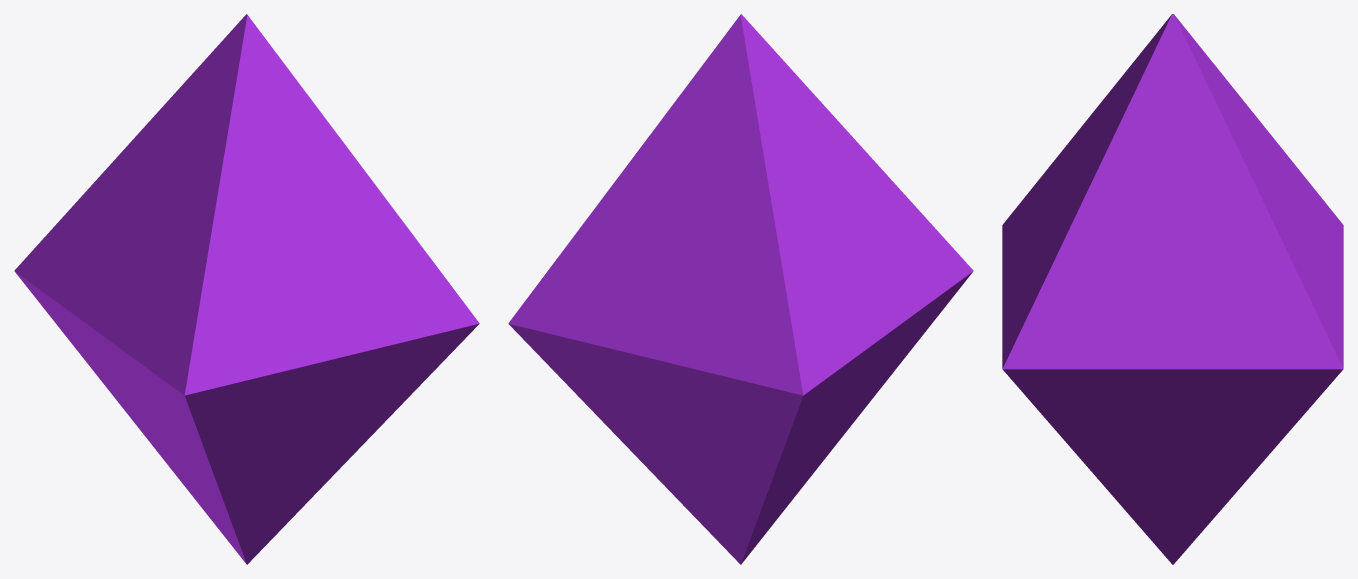
The model's file is diamond.fbx.
3 renders of one model, left to right at view 1: azimuth 30°, elevation 25°; view 2: azimuth 150°, elevation 25°; view 3: azimuth 270°, elevation 25°, orthographic.
Parts seen in each view (by area): view 1: Plane; view 2: Plane; view 3: Plane.
Part boxes in pixels (left/top/right/bottom): Plane: left=14, top=14, right=479, bottom=564; Plane: left=508, top=14, right=973, bottom=564; Plane: left=1002, top=14, right=1343, bottom=564.
Bounding box in the file's own units: 111 × 198 × 111.
